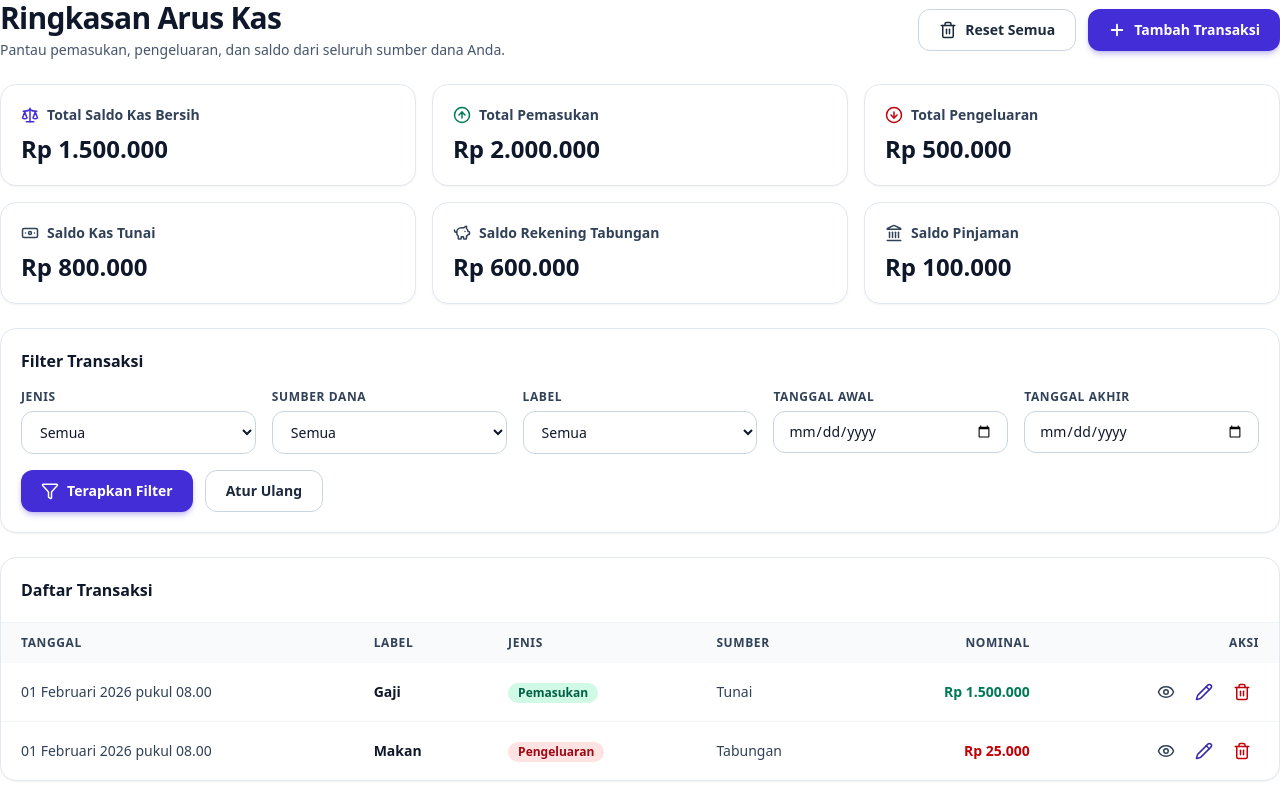
it: HomePage › membuka modal tambah, memuat ulang saat tersimpan, dan menutupnya
Click the button with test id "open-add-modal-btn" at (1184, 30), box [1088,9,1279,51]
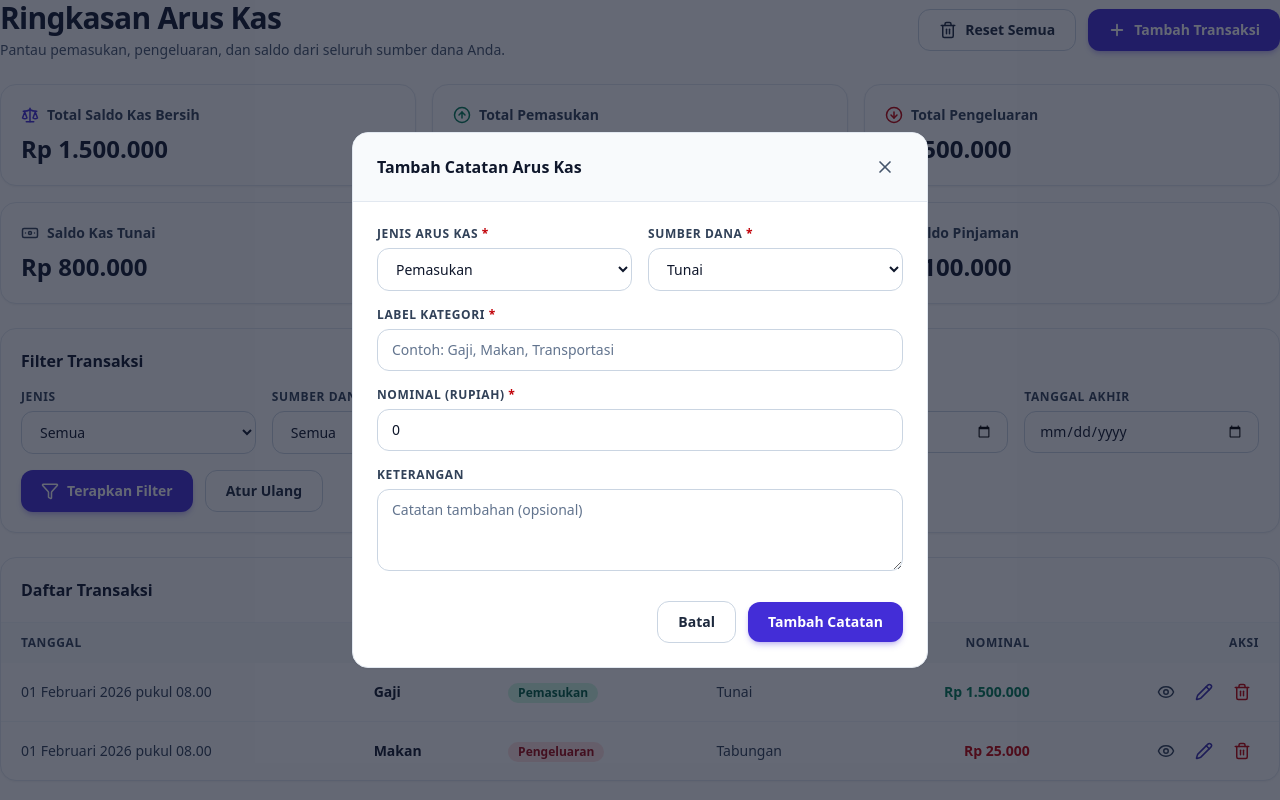
Now the dialog is shown
